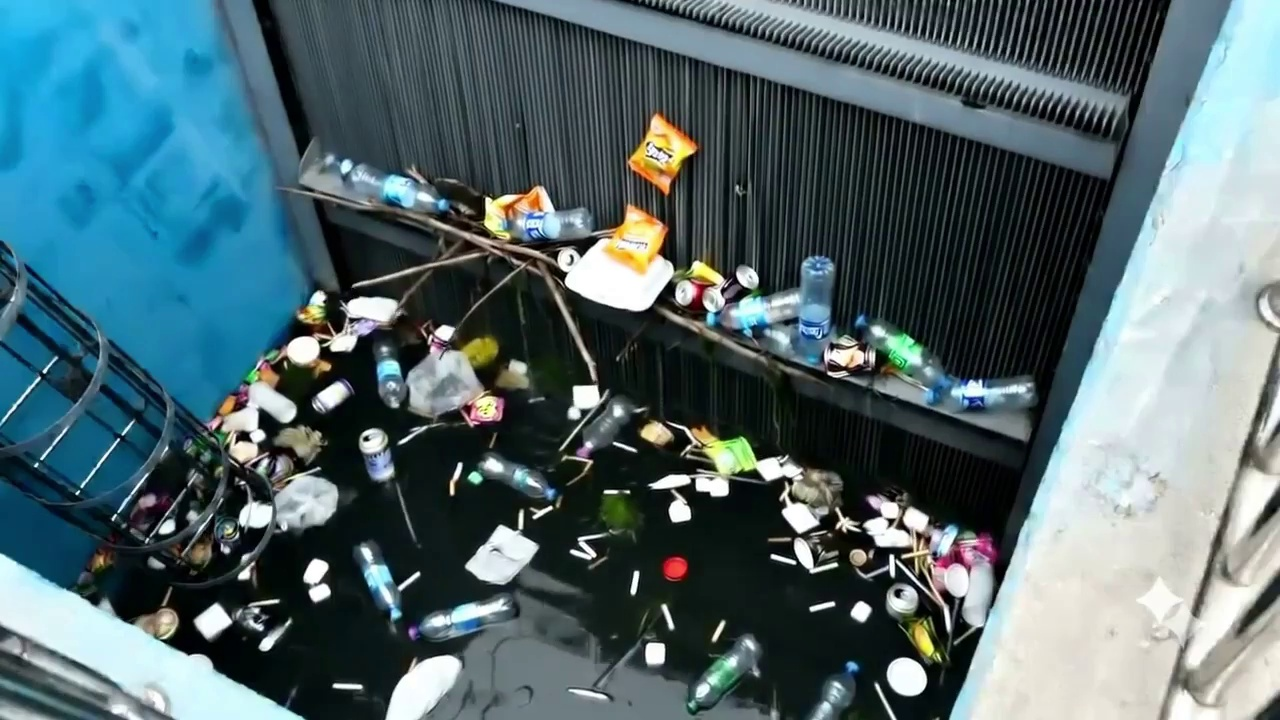debris: (640, 418, 862, 573), (208, 336, 336, 531), (351, 246, 482, 345), (381, 165, 522, 239), (564, 224, 673, 311), (565, 243, 673, 311), (854, 315, 949, 388), (566, 623, 650, 702), (686, 634, 762, 713), (628, 113, 698, 193), (408, 349, 483, 419), (408, 593, 517, 641), (385, 655, 461, 719), (350, 252, 480, 288), (601, 206, 667, 276), (467, 452, 557, 501), (705, 288, 800, 334), (466, 525, 538, 584), (925, 375, 1038, 412), (796, 255, 835, 362), (296, 291, 369, 348), (353, 541, 401, 621), (485, 186, 553, 239), (576, 396, 635, 457), (275, 475, 338, 532), (557, 386, 610, 452), (806, 661, 859, 719), (507, 208, 595, 242), (296, 303, 357, 351), (911, 533, 962, 588), (183, 417, 240, 465), (823, 335, 885, 377), (791, 469, 842, 516), (899, 561, 946, 610), (312, 317, 377, 352), (899, 564, 945, 611), (597, 491, 642, 538), (248, 381, 296, 424), (961, 563, 993, 626), (272, 426, 325, 464), (390, 480, 420, 546), (902, 617, 945, 663), (243, 346, 292, 386), (358, 428, 394, 482), (703, 437, 755, 474), (335, 317, 398, 346), (242, 350, 291, 386), (132, 603, 179, 640), (673, 278, 723, 312), (673, 278, 722, 312), (226, 436, 270, 473), (793, 533, 836, 570), (716, 265, 758, 302), (133, 607, 179, 640), (344, 296, 398, 324), (193, 603, 232, 641), (312, 379, 353, 414), (250, 449, 293, 482), (956, 533, 997, 567), (397, 422, 455, 446), (462, 393, 504, 426), (459, 335, 499, 369), (911, 536, 949, 571), (297, 298, 332, 333), (886, 583, 918, 621), (258, 618, 292, 652), (273, 466, 321, 490), (782, 503, 819, 533), (219, 405, 259, 432), (494, 360, 529, 390), (214, 516, 241, 554), (686, 260, 725, 285), (133, 493, 167, 521), (945, 598, 961, 657), (930, 525, 959, 557), (239, 502, 274, 528), (665, 421, 701, 446), (873, 682, 896, 719), (944, 564, 969, 598), (640, 421, 673, 446), (205, 413, 229, 444), (695, 476, 730, 497), (429, 325, 455, 353), (572, 385, 601, 410), (874, 528, 910, 548), (188, 538, 212, 567), (566, 687, 612, 702), (238, 448, 269, 470), (902, 507, 929, 532), (834, 507, 861, 532), (228, 441, 258, 463), (662, 556, 688, 581), (756, 457, 783, 481), (556, 248, 581, 273), (855, 560, 889, 578), (649, 475, 692, 489), (689, 426, 719, 446), (327, 332, 357, 352), (668, 499, 691, 523), (862, 517, 889, 537), (637, 609, 656, 637), (644, 641, 665, 666), (954, 626, 981, 645), (716, 475, 767, 485), (781, 457, 803, 479), (397, 571, 420, 592), (449, 462, 463, 496), (94, 597, 117, 617), (850, 601, 871, 622), (216, 395, 237, 416), (308, 583, 331, 602), (660, 603, 675, 632), (855, 565, 886, 579), (769, 684, 781, 719), (188, 653, 212, 670), (460, 404, 477, 428), (710, 619, 726, 644), (880, 502, 901, 520), (848, 549, 869, 567), (955, 531, 977, 548), (578, 540, 597, 559), (694, 475, 715, 492), (955, 531, 977, 547), (779, 481, 793, 506), (157, 518, 176, 536), (809, 562, 837, 574), (769, 553, 796, 565), (531, 505, 554, 519), (900, 549, 930, 559), (569, 548, 592, 561), (808, 601, 835, 612), (576, 532, 609, 541), (247, 598, 280, 607), (249, 428, 266, 445), (331, 682, 363, 691), (681, 442, 700, 457), (588, 554, 607, 569), (561, 455, 591, 464), (146, 557, 165, 571), (613, 442, 637, 453), (629, 570, 639, 596), (566, 406, 582, 421), (160, 586, 172, 606), (669, 489, 686, 502), (887, 555, 896, 579), (186, 507, 199, 523), (602, 488, 629, 495), (448, 477, 457, 496), (406, 657, 418, 671), (517, 508, 524, 531), (806, 529, 828, 536), (767, 537, 792, 543), (527, 395, 544, 403), (636, 405, 649, 415), (553, 496, 563, 508)
